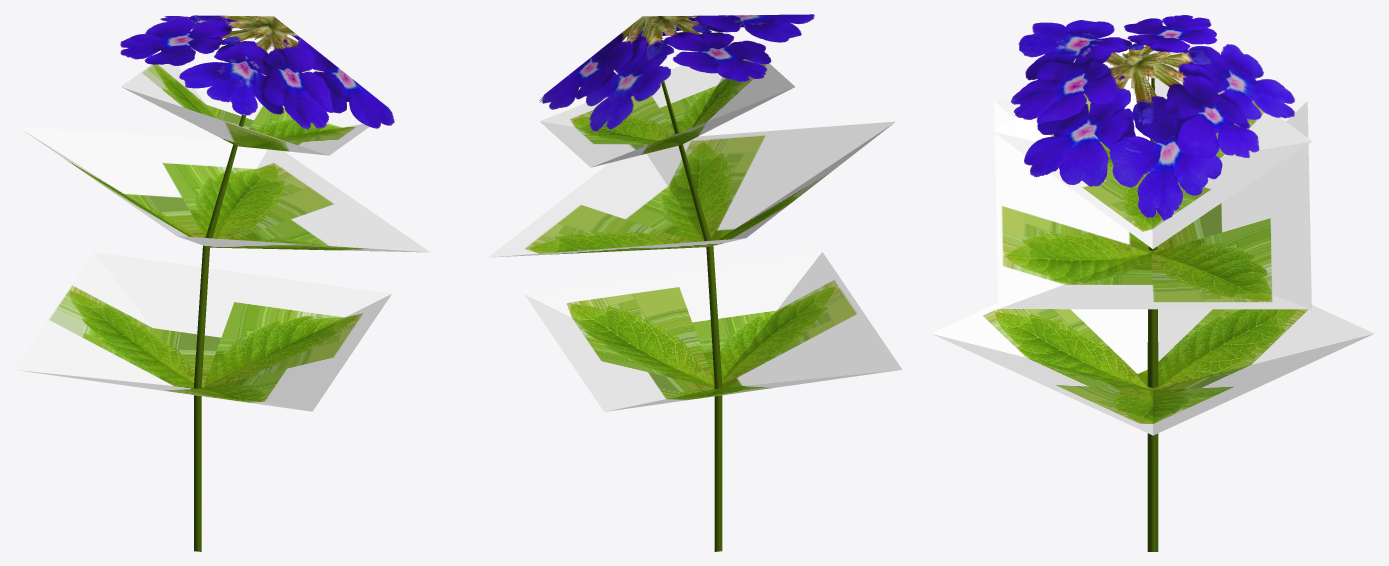
Rendered from flor sola.fbx.
3 renders of one model, left to right at view 1: azimuth 30°, elevation 25°; view 2: azimuth 150°, elevation 25°; view 3: azimuth 270°, elevation 25°, orthographic.
Parts seen in each view (by area): view 1: polySurface36, polySurface38, polySurface39, polySurface37, polySurface35; view 2: polySurface36, polySurface38, polySurface39, polySurface37, polySurface35; view 3: polySurface38, polySurface39, polySurface36, polySurface37, polySurface35.
Boxes of the visible parts, bbox=[...] form: polySurface36: bbox=[14, 252, 391, 411]; polySurface38: bbox=[18, 126, 429, 252]; polySurface39: bbox=[120, 15, 394, 129]; polySurface37: bbox=[121, 60, 369, 155]; polySurface35: bbox=[194, 115, 246, 551]; polySurface36: bbox=[524, 252, 902, 411]; polySurface38: bbox=[488, 121, 895, 257]; polySurface39: bbox=[539, 14, 814, 131]; polySurface37: bbox=[540, 40, 794, 167]; polySurface35: bbox=[659, 65, 722, 551]; polySurface38: bbox=[994, 100, 1311, 309]; polySurface39: bbox=[1011, 15, 1295, 220]; polySurface36: bbox=[931, 303, 1374, 435]; polySurface37: bbox=[993, 34, 1312, 248]; polySurface35: bbox=[1147, 78, 1158, 551].
Bounding box in the file's own units: 0.6846 × 0.8914 × 0.6852.
3 materials, 2 textured.
